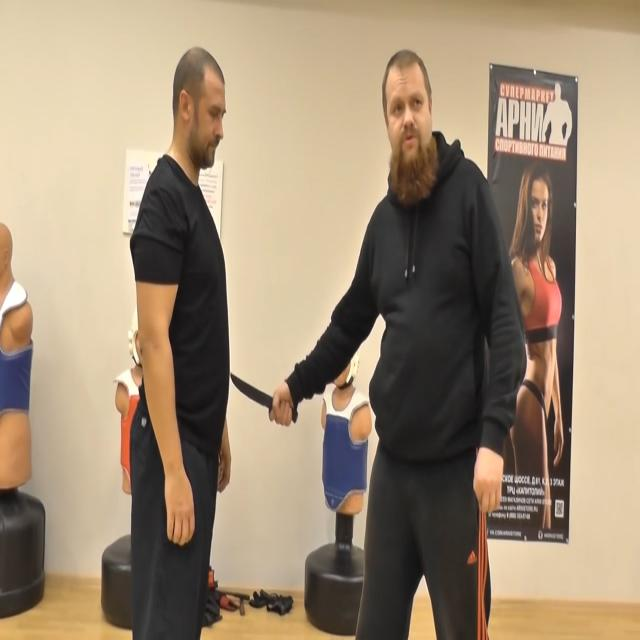knife: (231, 368, 275, 430)
